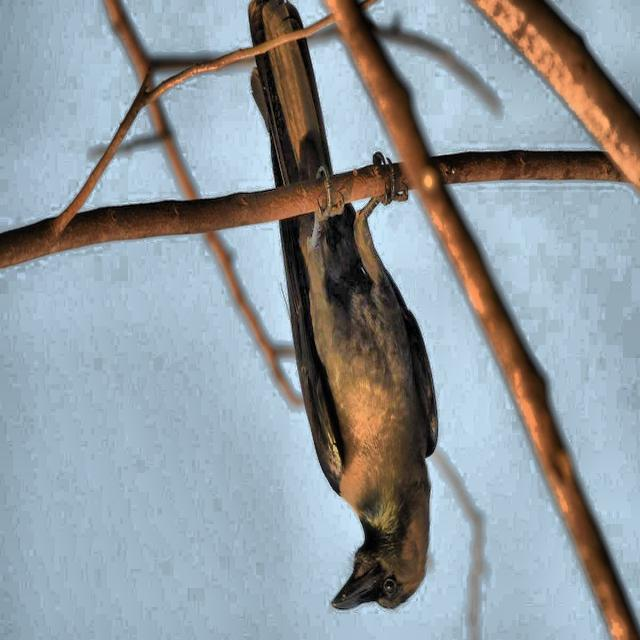crow: (233, 1, 486, 613)
